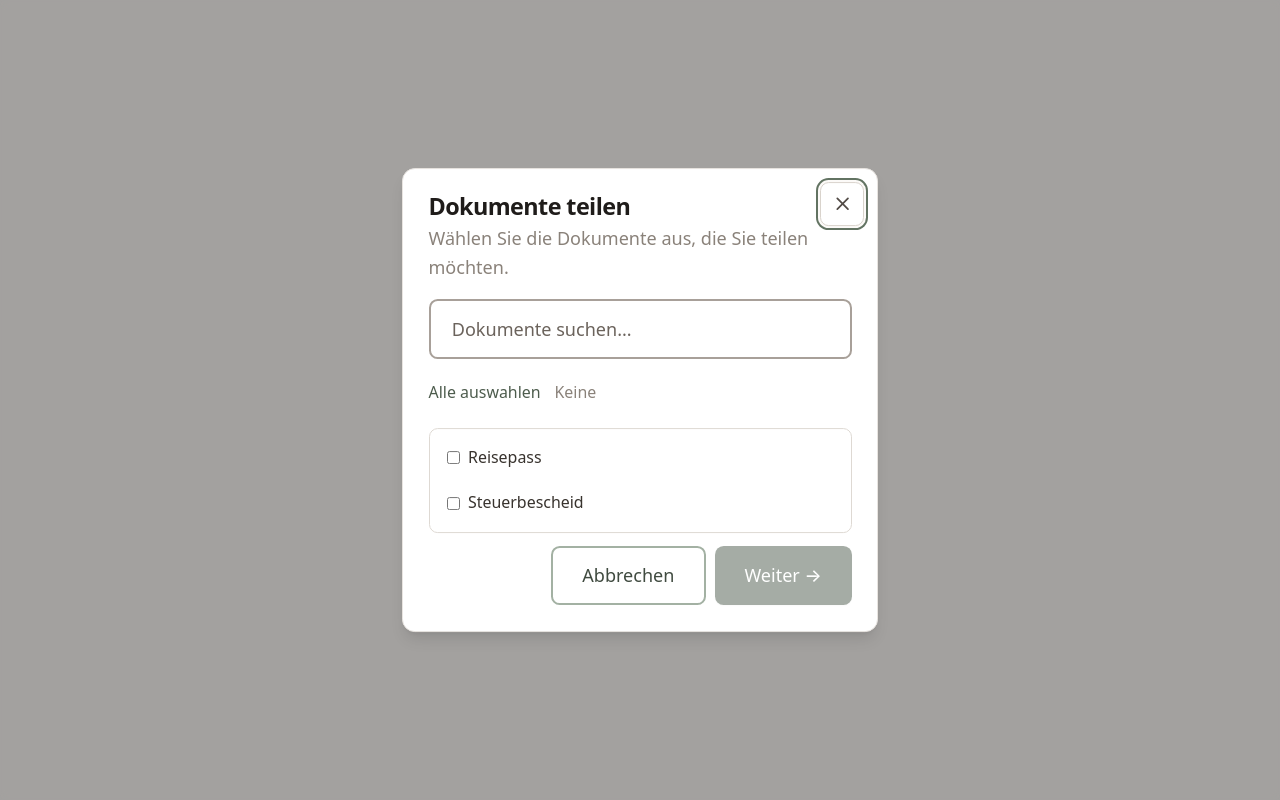
Test: BulkShareDialog › shows vault-locked warning when isUnlocked is false
Click the checkbox labelled "Reisepass". click: (453, 458)
box: 446,452 -> 460,465
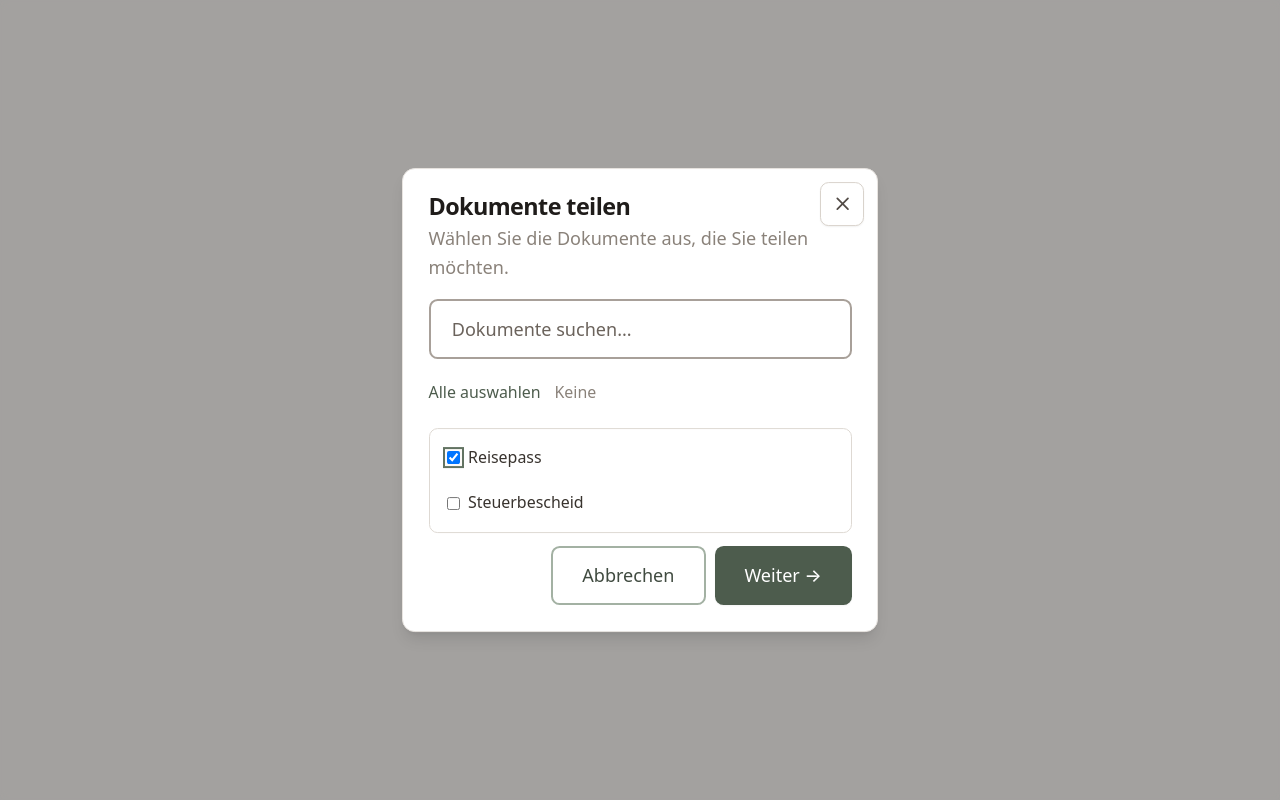
Click the button "Weiter →". click: (783, 576)
box: 715,546 -> 852,605
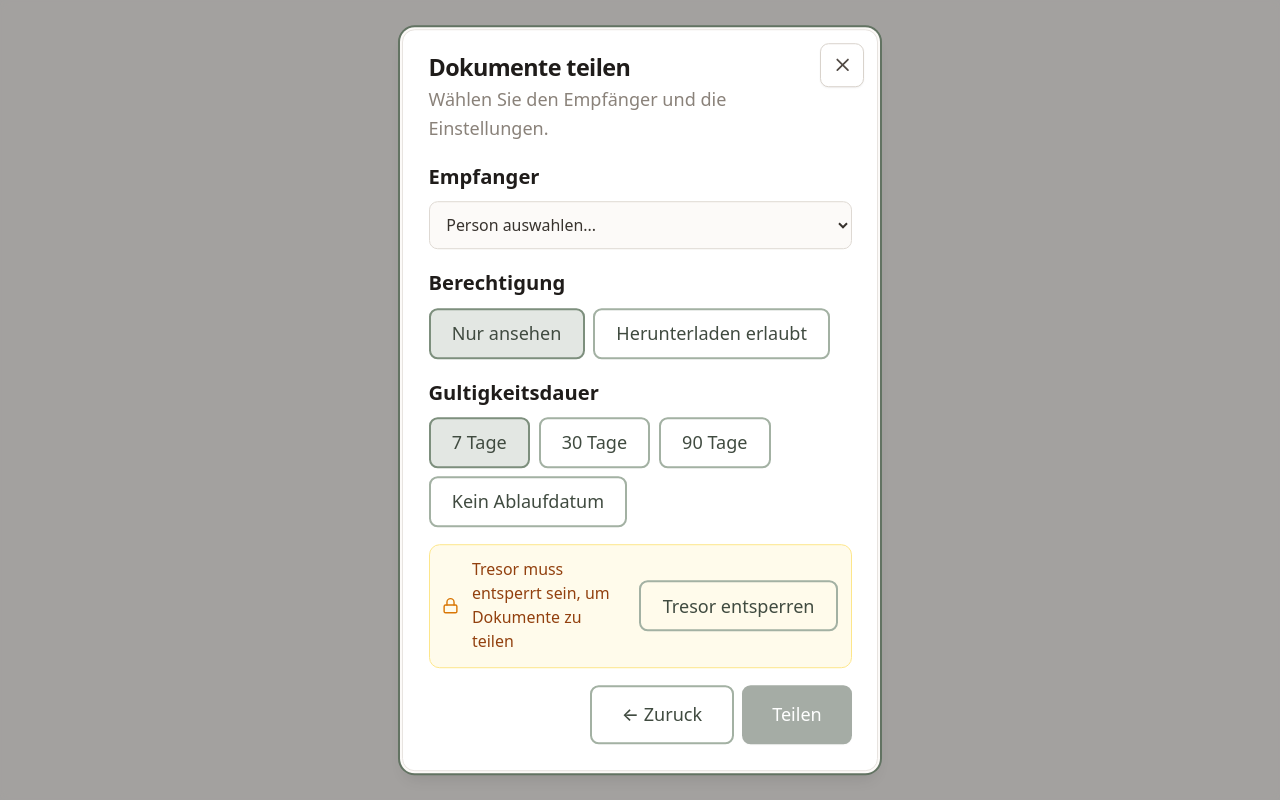
Expected: the text "Tresor muss entsperrt sein, um Dokumente zu teilen" is shown, 472,558 -> 627,654
